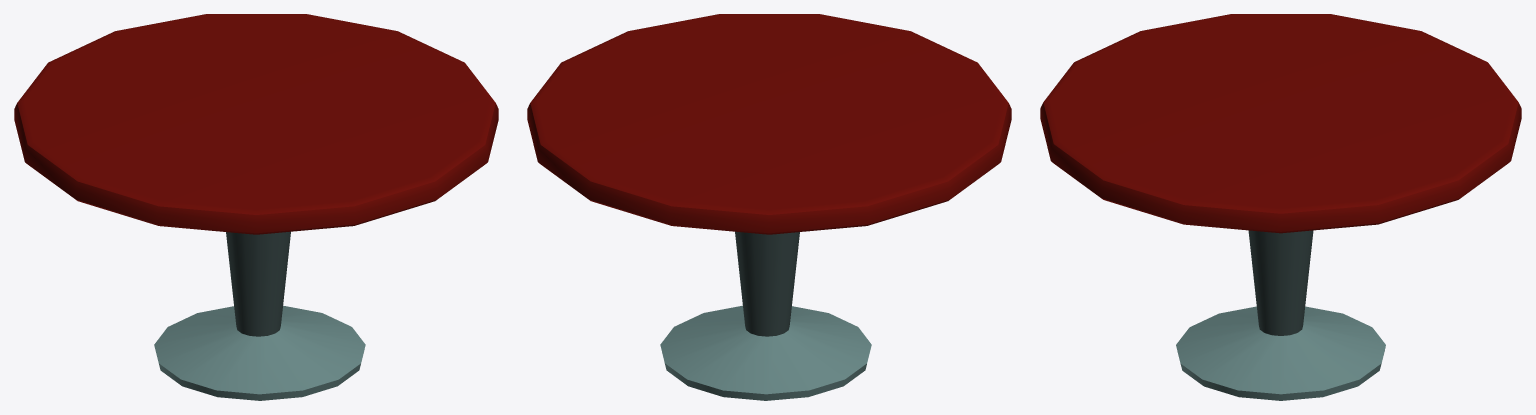
The model's file is Food Court_Table.fbx.
The picture shows the model from 3 angles, left to right: view 1: azimuth 30°, elevation 25°; view 2: azimuth 150°, elevation 25°; view 3: azimuth 270°, elevation 25°; orthographic projection.
Parts seen in each view (by area): view 1: pCylinder1; view 2: pCylinder1; view 3: pCylinder1.
Part boxes in pixels (box(x1,y1,x2,y2)): pCylinder1: box(14, 14, 498, 400); pCylinder1: box(527, 14, 1011, 400); pCylinder1: box(1040, 14, 1521, 400).
Size of the model in its own units: 4.02 by 2.28 by 4.04.
